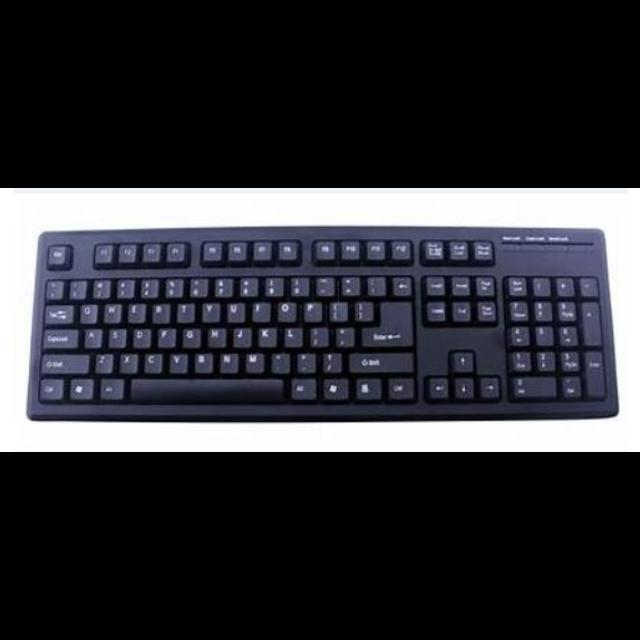Computer-Keyboard: (26, 226, 621, 423)
